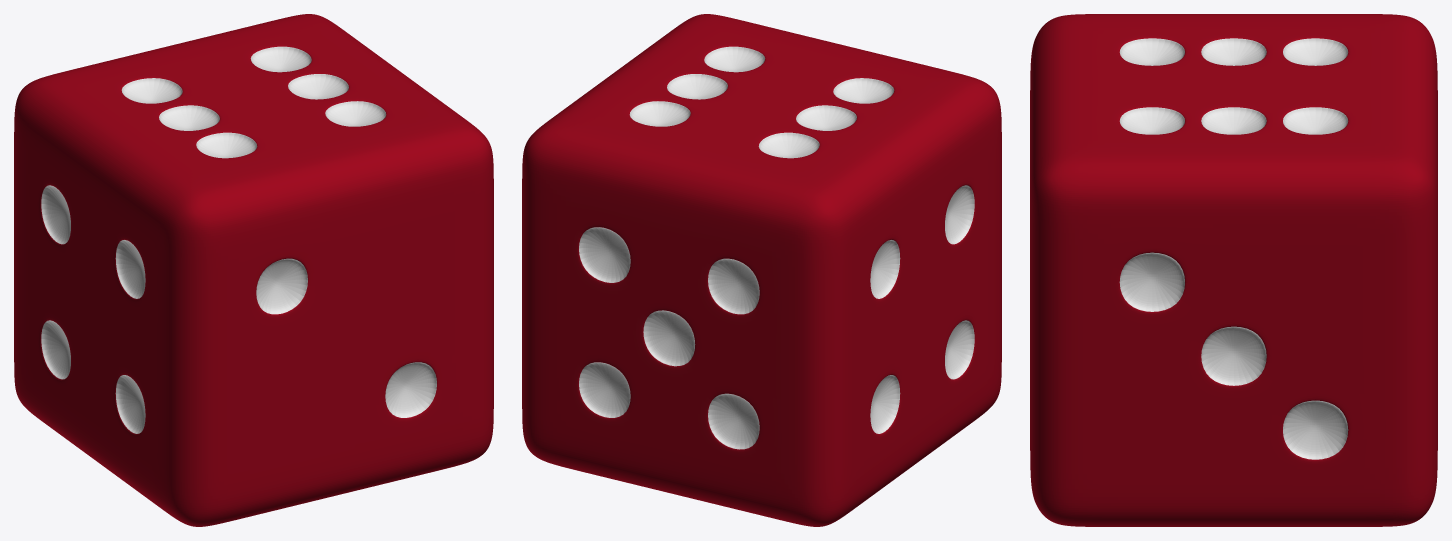
The model's file is Dice_fbx.fbx.
3 views of the same model, side by side, from view 1: azimuth 30°, elevation 25°; view 2: azimuth 150°, elevation 25°; view 3: azimuth 270°, elevation 25° (orthographic). The views are drawn at different scales.
Visible parts, largest first — view 1: Cube; view 2: Cube; view 3: Cube.
Part boxes in pixels (x1,y1,x2,y2): Cube: (14,14,493,526); Cube: (522,14,1001,526); Cube: (1030,14,1437,526).
Bounding box in the file's own units: 200 × 200 × 200.
